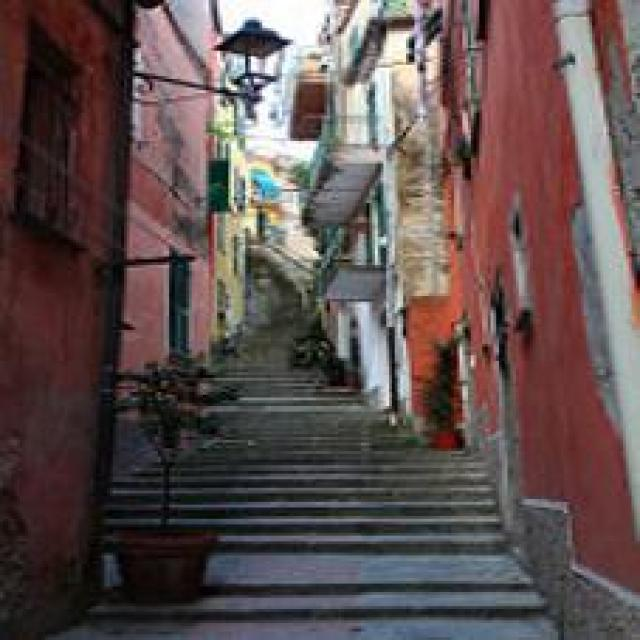upstair: (134, 373, 523, 596)
